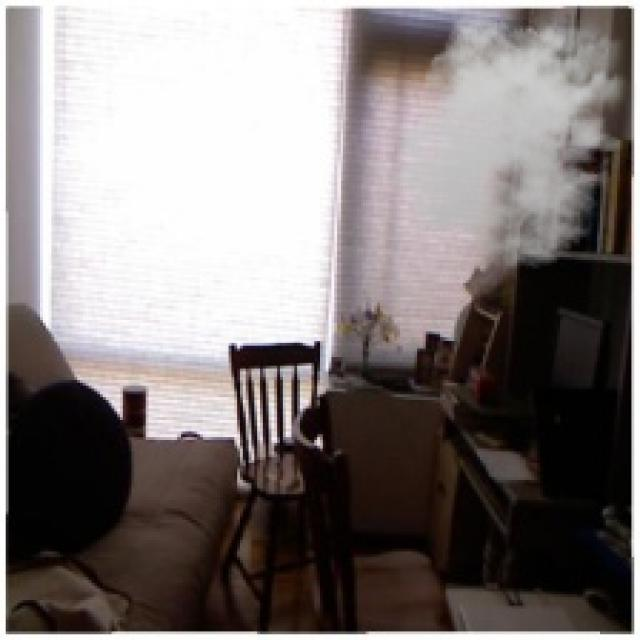smoke: (389, 6, 637, 271)
